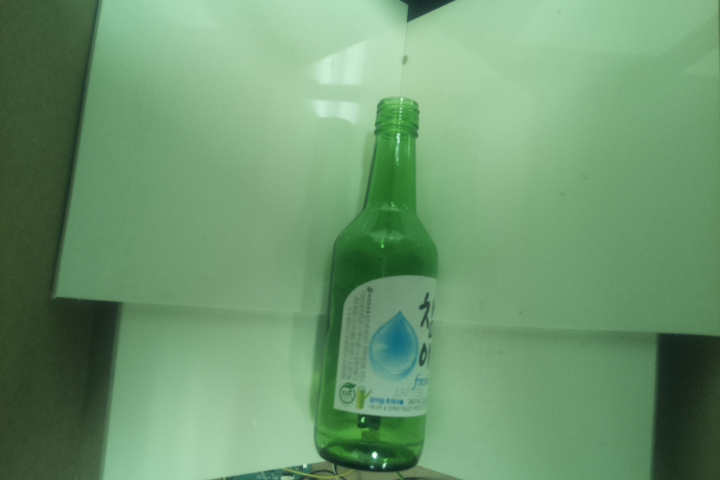soju: (311, 93, 441, 473)
